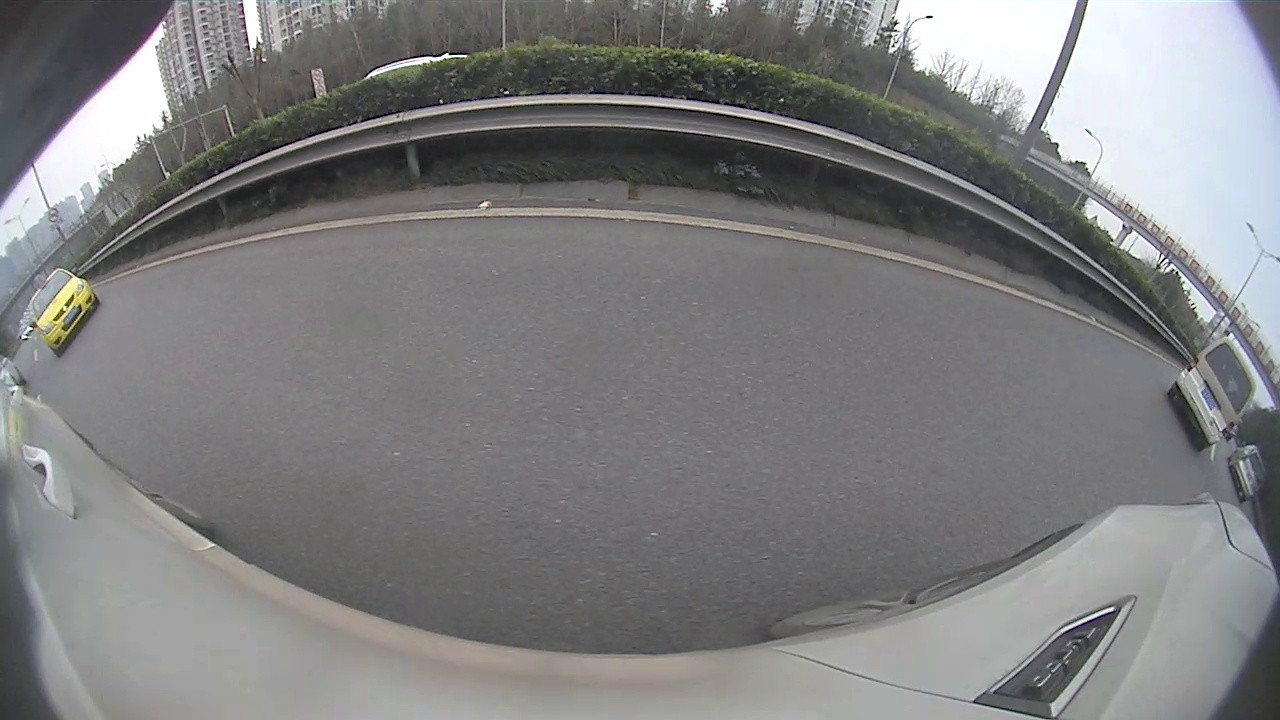car: (1167, 331, 1258, 451), (27, 267, 99, 358), (1227, 445, 1265, 509)
